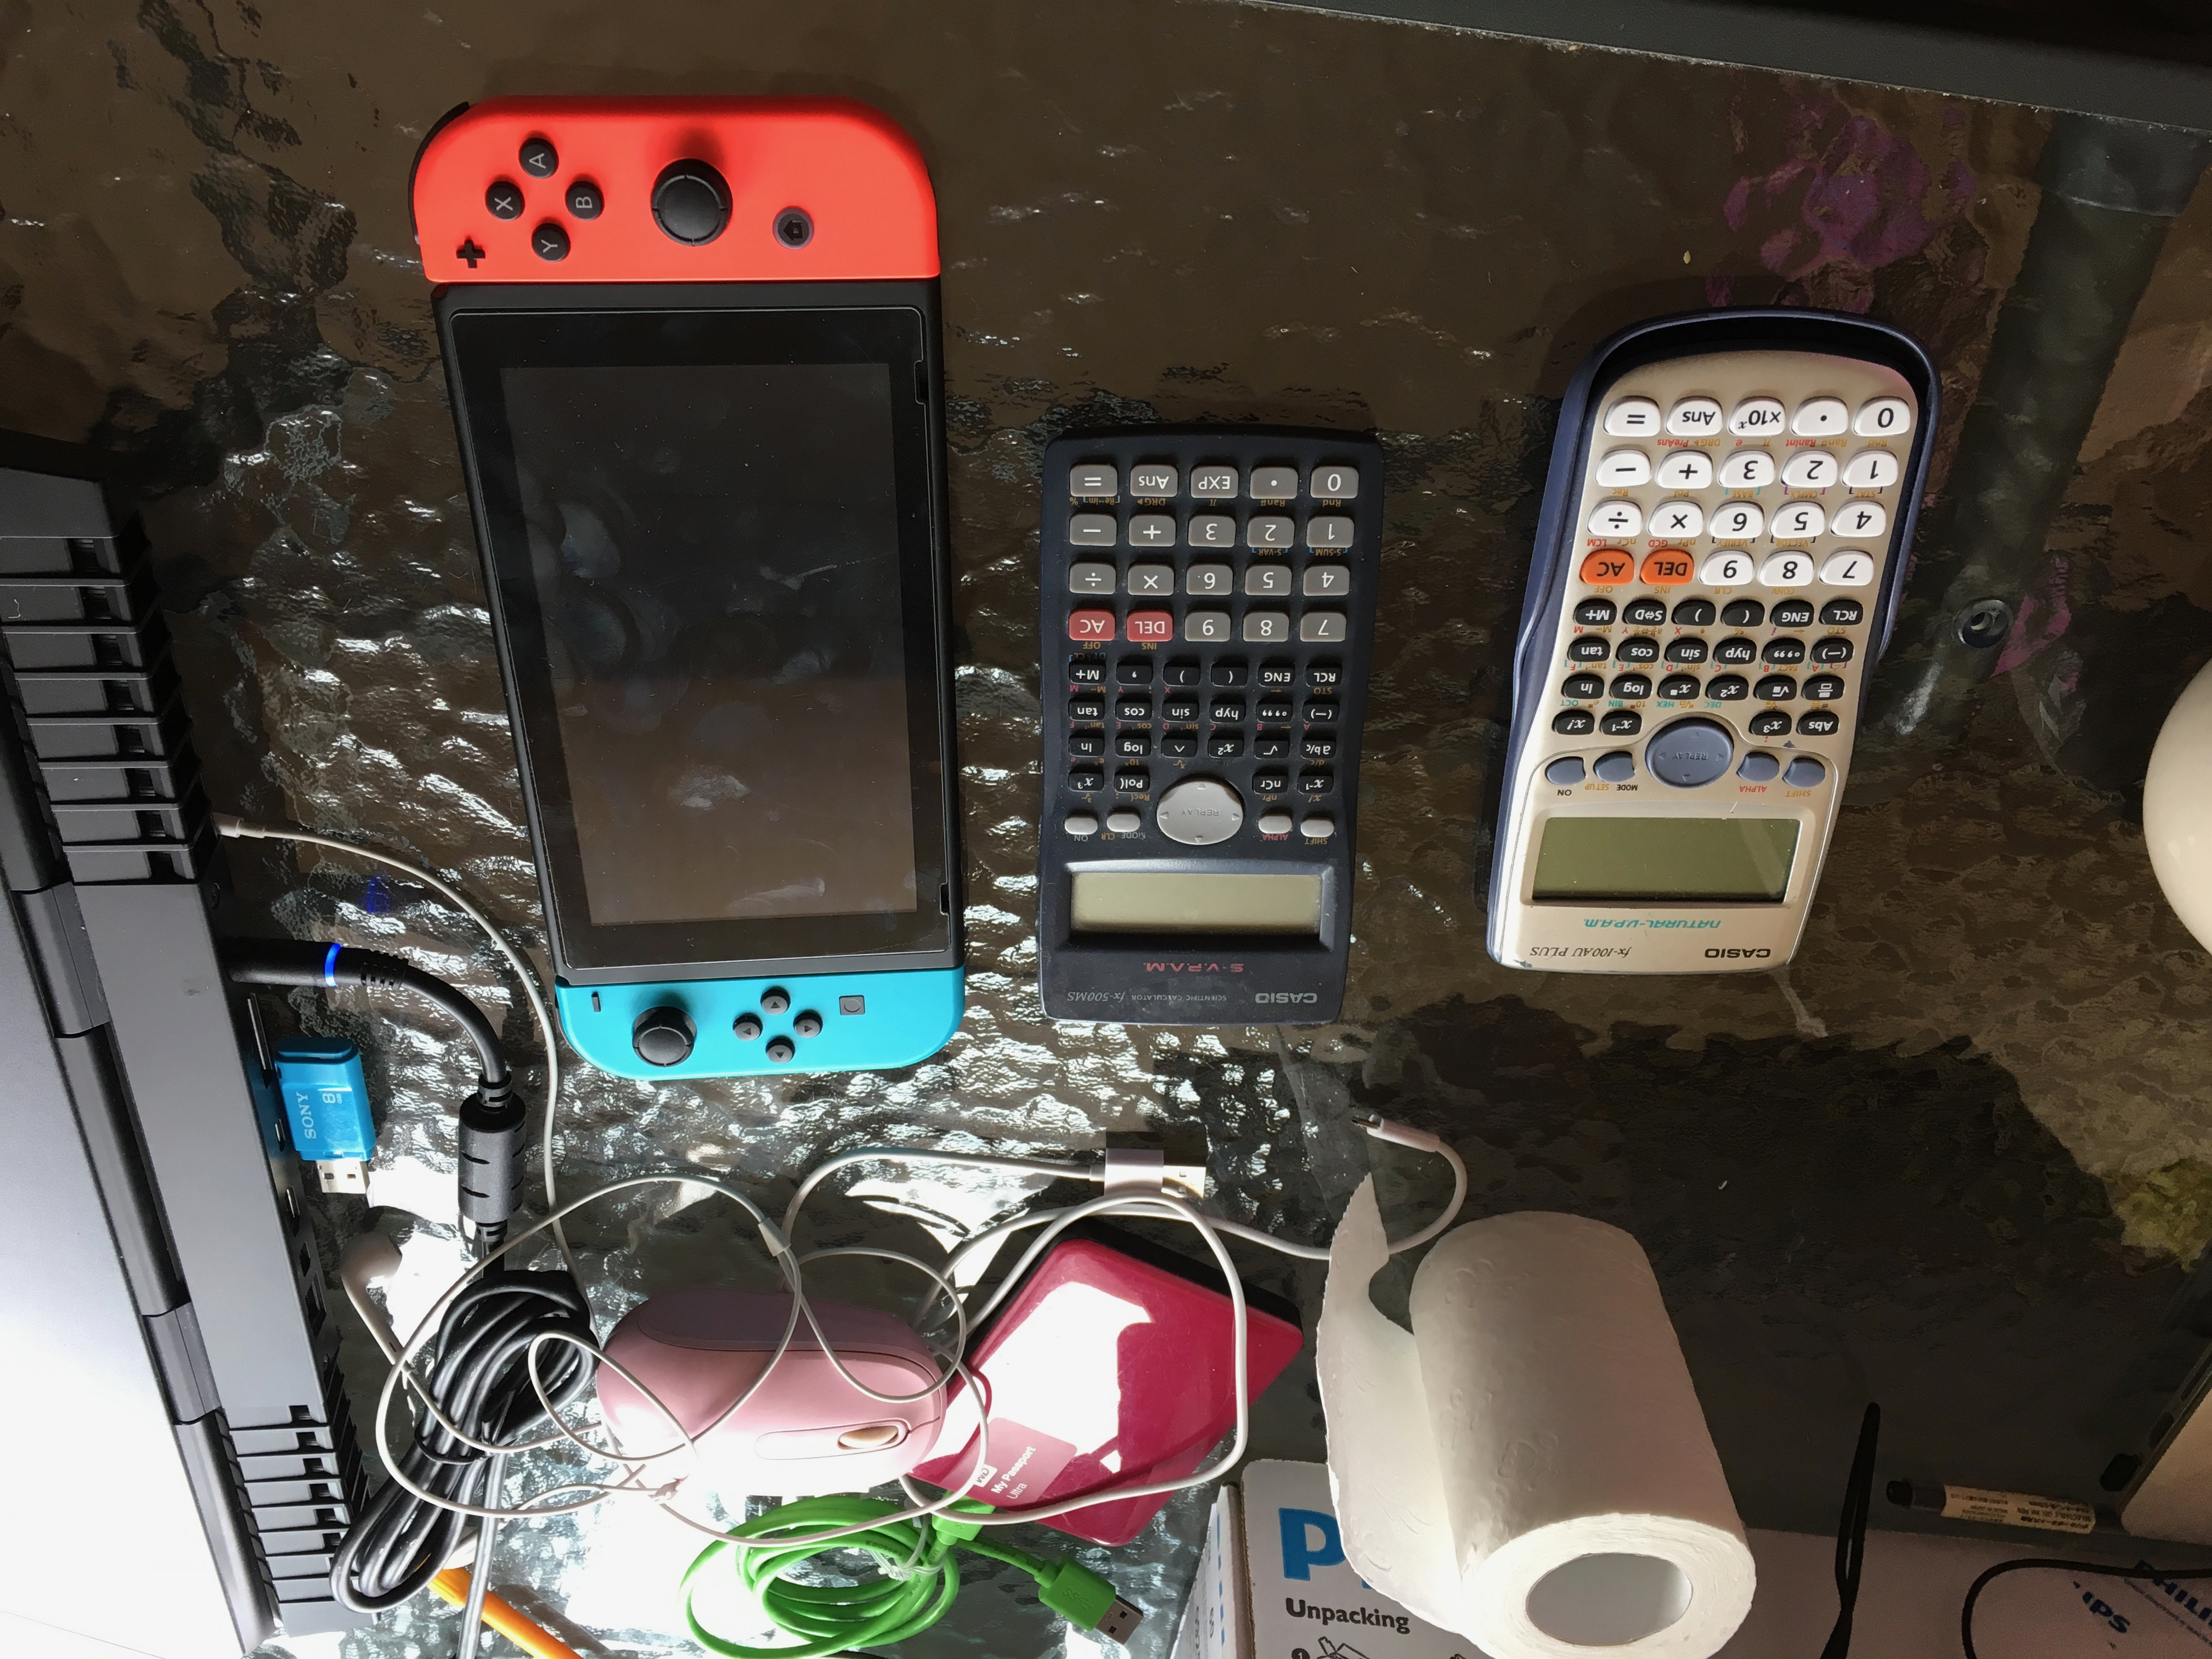Calculator: (1456, 322, 1940, 995), (1022, 406, 1390, 1044)
NintendoSwitch: (390, 89, 982, 1089)
